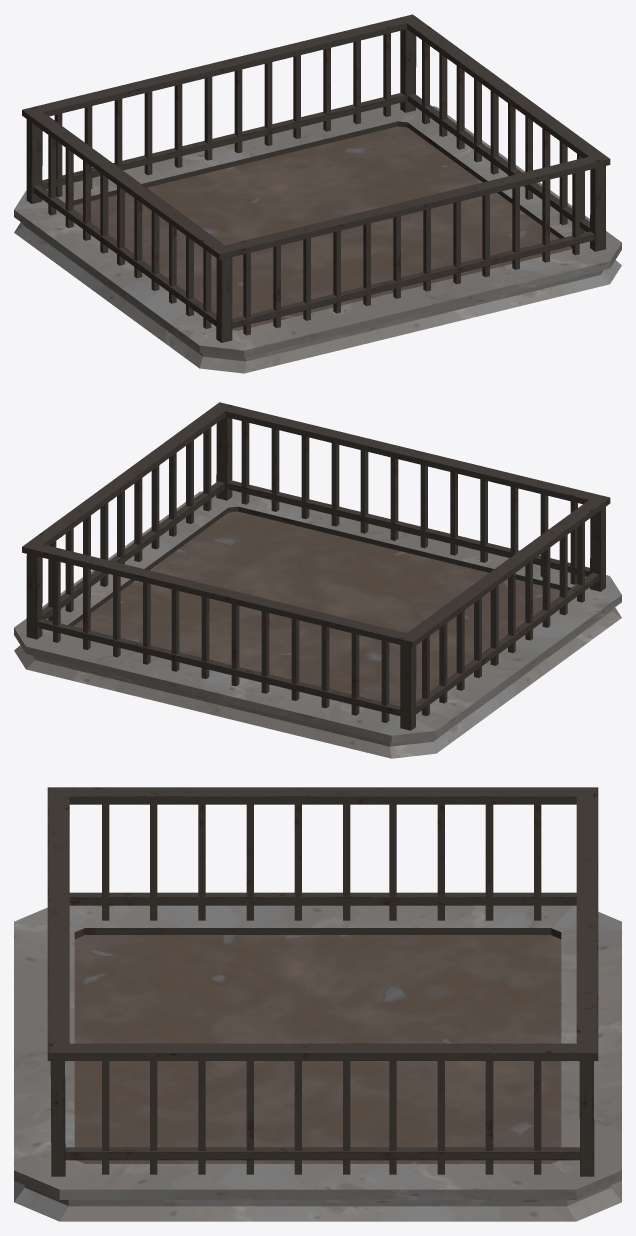
File: Sidewalk_Planter.gltf
3 renders of one model, top to bottom at view 1: azimuth 30°, elevation 25°; view 2: azimuth 150°, elevation 25°; view 3: azimuth 270°, elevation 25°, orthographic. The views are drawn at different scales.
Parts seen in each view (by area): view 1: Sidewalk_Planter; view 2: Sidewalk_Planter; view 3: Sidewalk_Planter.
Boxes of the visible parts, left/top/right/bottom form: Sidewalk_Planter: left=14, top=14, right=621, bottom=373; Sidewalk_Planter: left=14, top=402, right=621, bottom=758; Sidewalk_Planter: left=14, top=787, right=621, bottom=1221.
Bounding box in the file's own units: 1.97 × 0.5057 × 1.77.
Materials: 2 (2 with a texture image).
